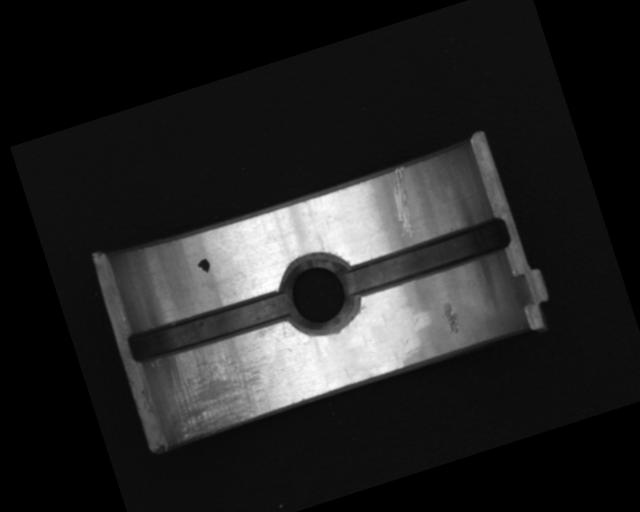blot: (195, 255, 213, 275)
bruise: (436, 299, 465, 337)
gap: (339, 213, 513, 302), (125, 284, 297, 368)
hole: (270, 244, 366, 344)
nick: (382, 166, 425, 239)
scratch: (145, 331, 281, 447)
